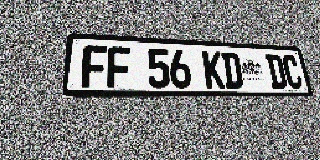5: (147, 48, 171, 88)
6: (169, 49, 192, 88)
C: (281, 55, 304, 89)
D: (221, 52, 244, 89), (265, 54, 288, 89)
F: (81, 45, 107, 88), (107, 46, 131, 88)
K: (202, 51, 225, 88)
